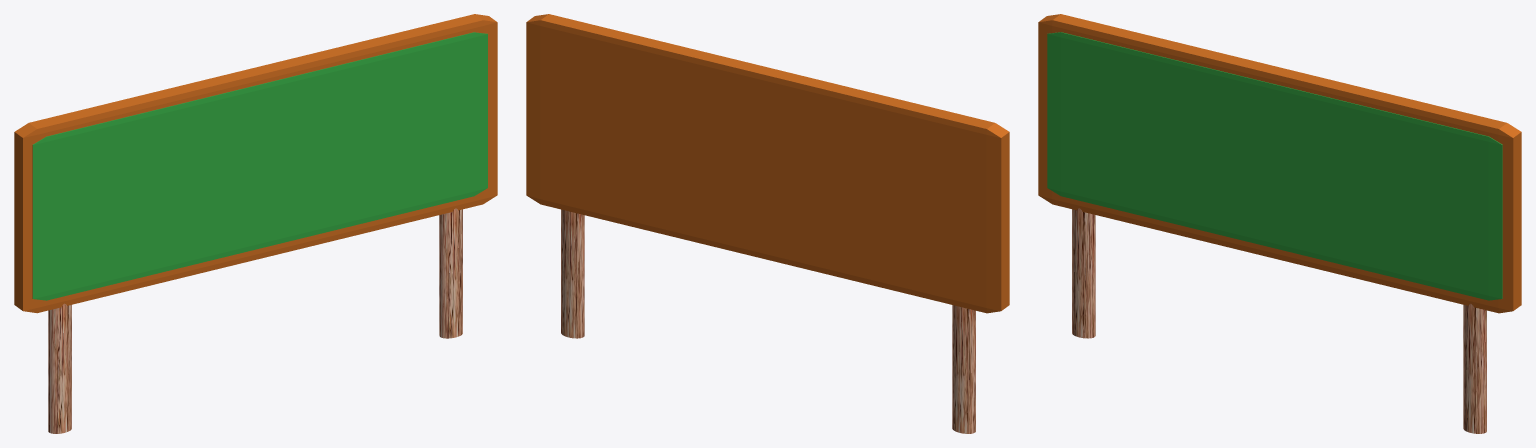
Rendered from Panel.fbx.
3 views of the same model, side by side, from view 1: azimuth 30°, elevation 25°; view 2: azimuth 150°, elevation 25°; view 3: azimuth 330°, elevation 25° (orthographic).
Parts seen in each view (by area): view 1: Front_Green, Back_Brown, R_Foot, L_Foot; view 2: Back_Brown, R_Foot, L_Foot; view 3: Front_Green, Back_Brown, L_Foot, R_Foot.
Boxes of the visible parts, x1,y1,x2,y2 form: Front_Green: (32,32,487,300); Back_Brown: (14,14,497,313); R_Foot: (439,208,462,338); L_Foot: (48,303,71,433); Back_Brown: (526,14,1009,313); R_Foot: (561,209,584,338); L_Foot: (952,305,975,433); Front_Green: (1047,32,1502,300); Back_Brown: (1038,14,1521,313); L_Foot: (1072,208,1095,338); R_Foot: (1463,303,1486,433).
Size of the model in its own units: 1456 by 910 by 50.61.
Materials: 3 (1 with a texture image).
